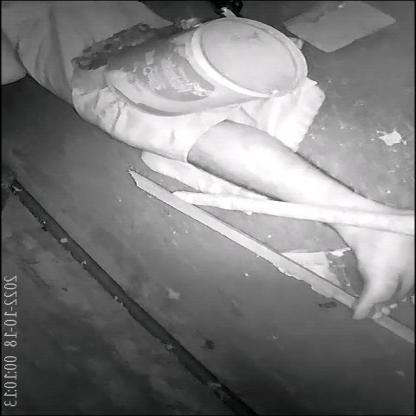leg: (161, 124, 416, 326)
